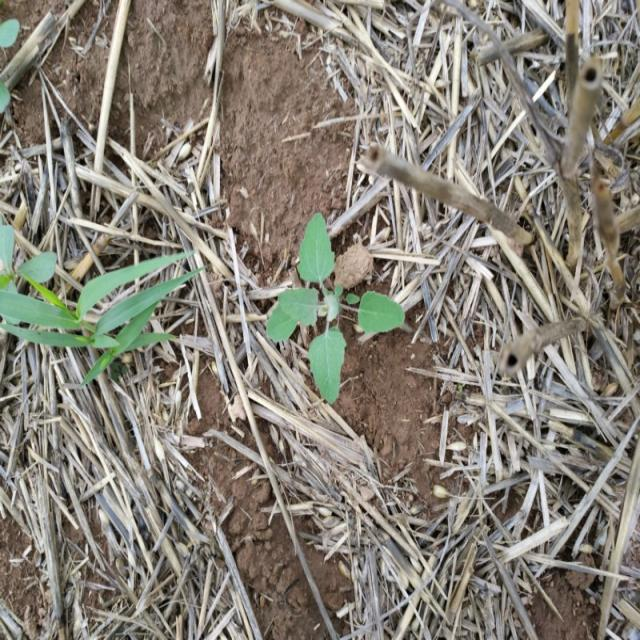goosefoots: (251, 229, 414, 381)
